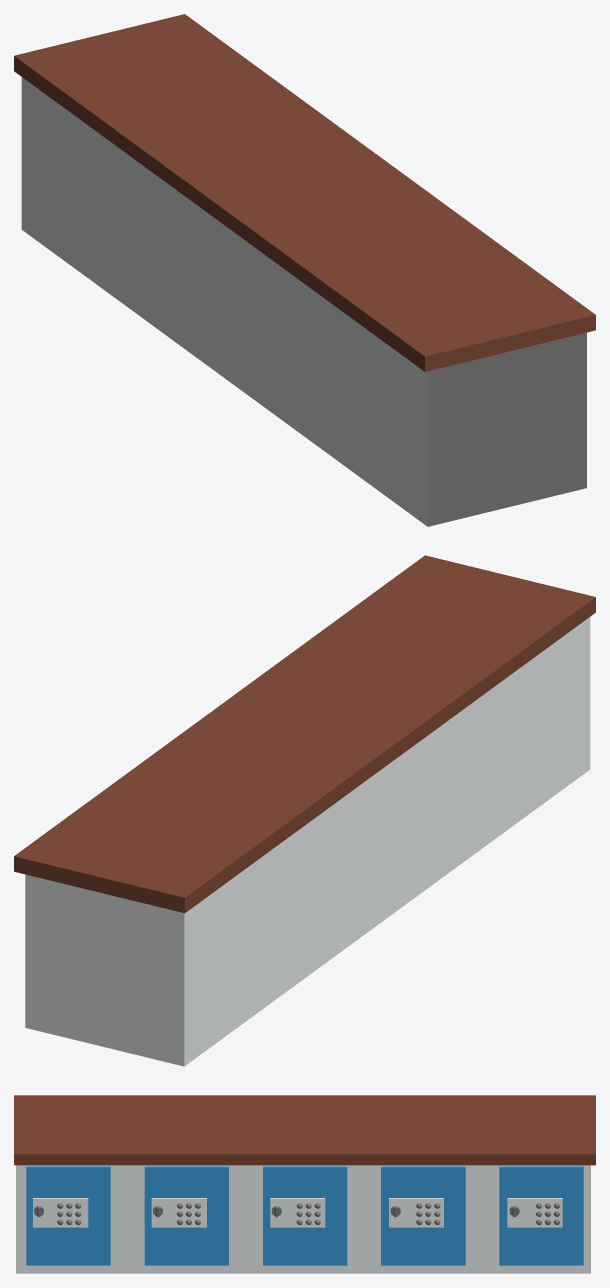
File: Spind zum Sitzen.fbx
3 views of the same model, one above another, from view 1: azimuth 30°, elevation 25°; view 2: azimuth 150°, elevation 25°; view 3: azimuth 270°, elevation 25° (orthographic). The views are drawn at different scales.
Visible parts, largest first — view 1: Cube.001; view 2: Cube.001; view 3: Cube.001.
Boxes of the visible parts, x1,y1,x2,y2 form: Cube.001: [14, 14, 595, 526]; Cube.001: [14, 555, 595, 1066]; Cube.001: [14, 1095, 595, 1273].
Size of the model in its own units: 0.5847 by 0.558 by 2.41.
